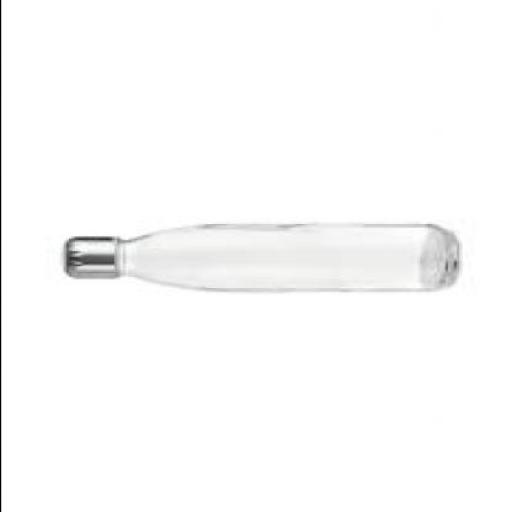glass: (111, 224, 455, 292)
metal: (62, 235, 119, 276)
